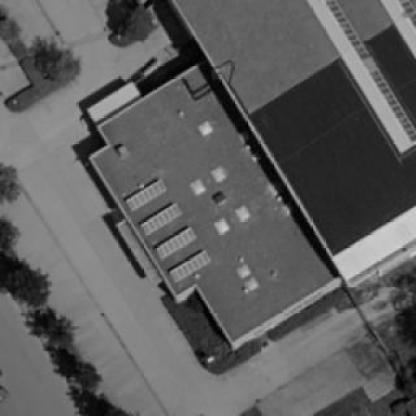solar-pv-panel: (140, 202, 183, 236), (169, 250, 212, 283), (155, 226, 198, 259), (125, 179, 168, 212)
